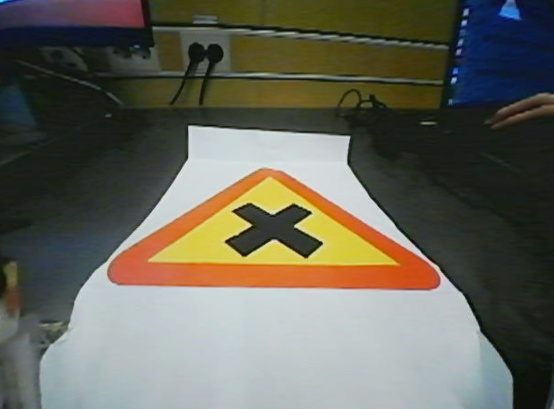junction: (77, 152, 485, 311)
